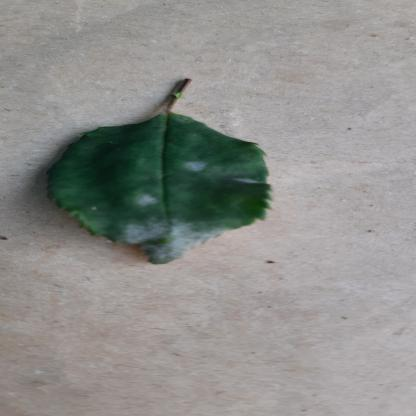powdery-mildew: (38, 113, 286, 266)
